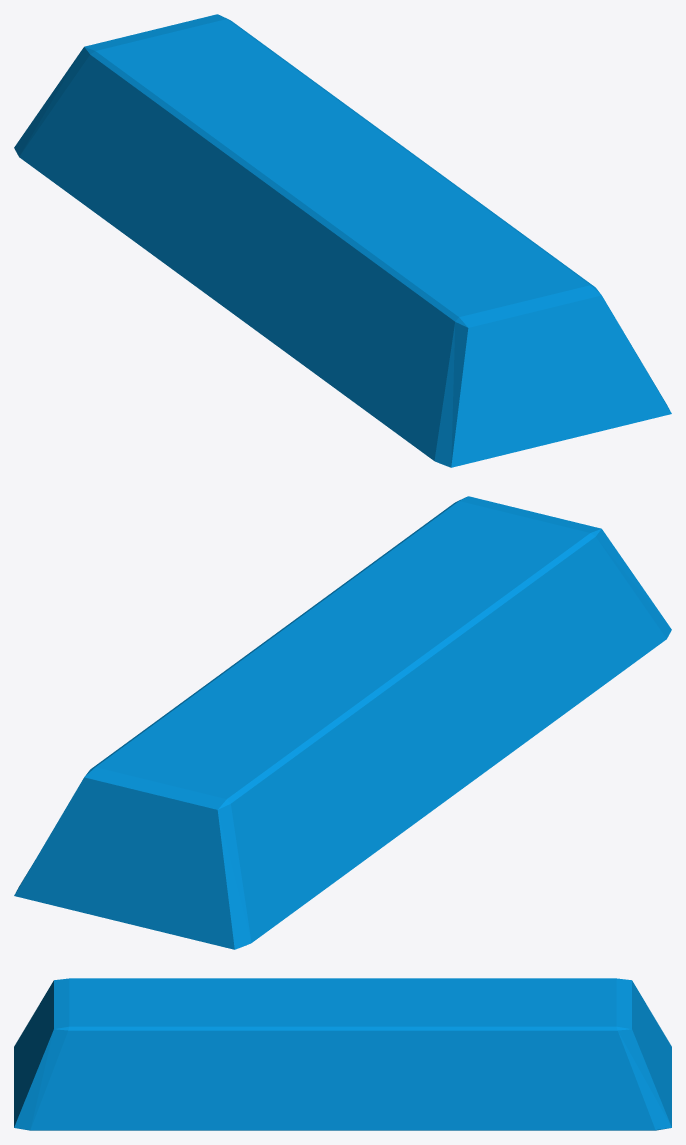
Rendered from CryofrostIngot.fbx.
3 views of the same model, one above another, from view 1: azimuth 30°, elevation 25°; view 2: azimuth 150°, elevation 25°; view 3: azimuth 270°, elevation 25° (orthographic). The views are drawn at different scales.
Visible parts, largest first — view 1: Ingot; view 2: Ingot; view 3: Ingot.
Boxes of the visible parts, bbox=[...] form: Ingot: bbox=[14, 14, 671, 467]; Ingot: bbox=[14, 496, 671, 949]; Ingot: bbox=[14, 978, 671, 1130].
Bounding box in the file's own units: 16.82 × 8 × 54.83.
